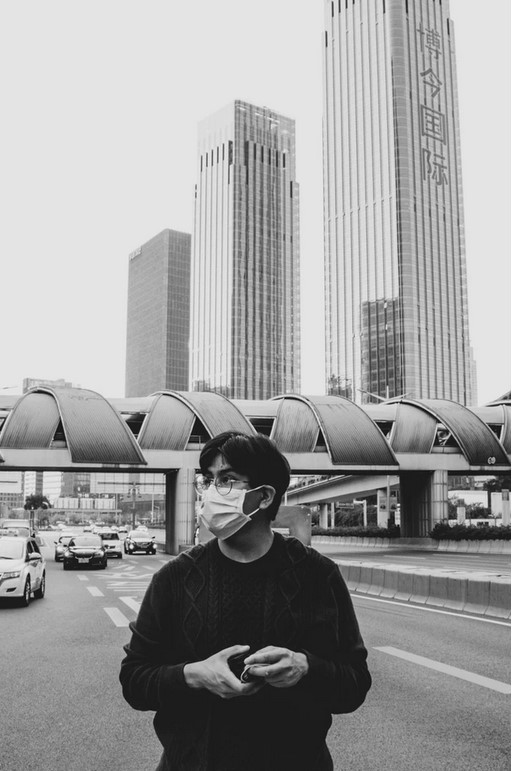face_with_mask: (192, 445, 280, 546)
